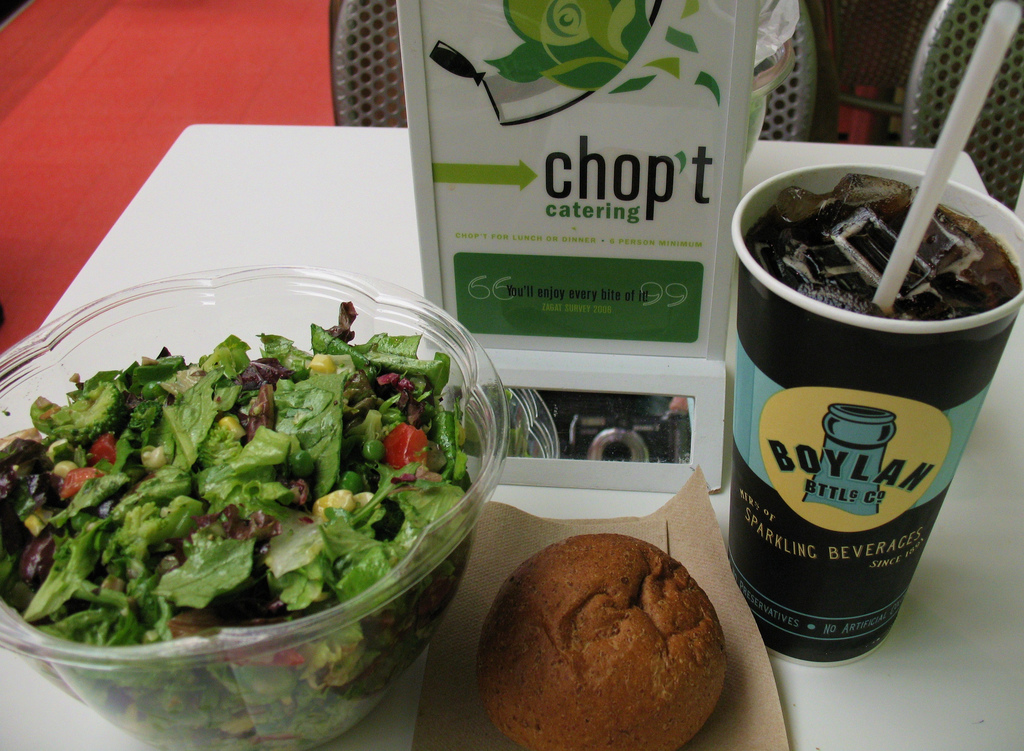chopped lettuce: (52, 354, 404, 557)
slice of bread: (511, 557, 737, 741)
